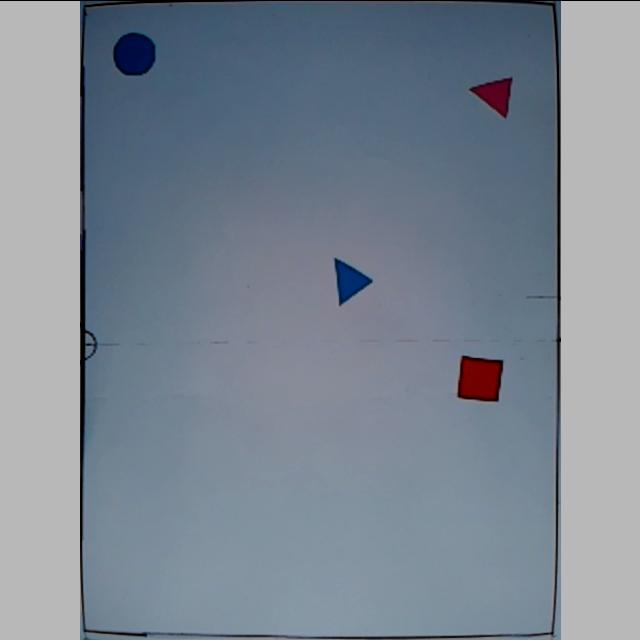blueCircle: (112, 32, 158, 76)
blueTriangle: (332, 258, 372, 306)
pinkTriangle: (466, 72, 516, 120)
redSquare: (456, 354, 504, 406)
